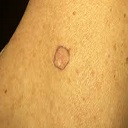Carcinoma: (51, 41, 70, 72)
